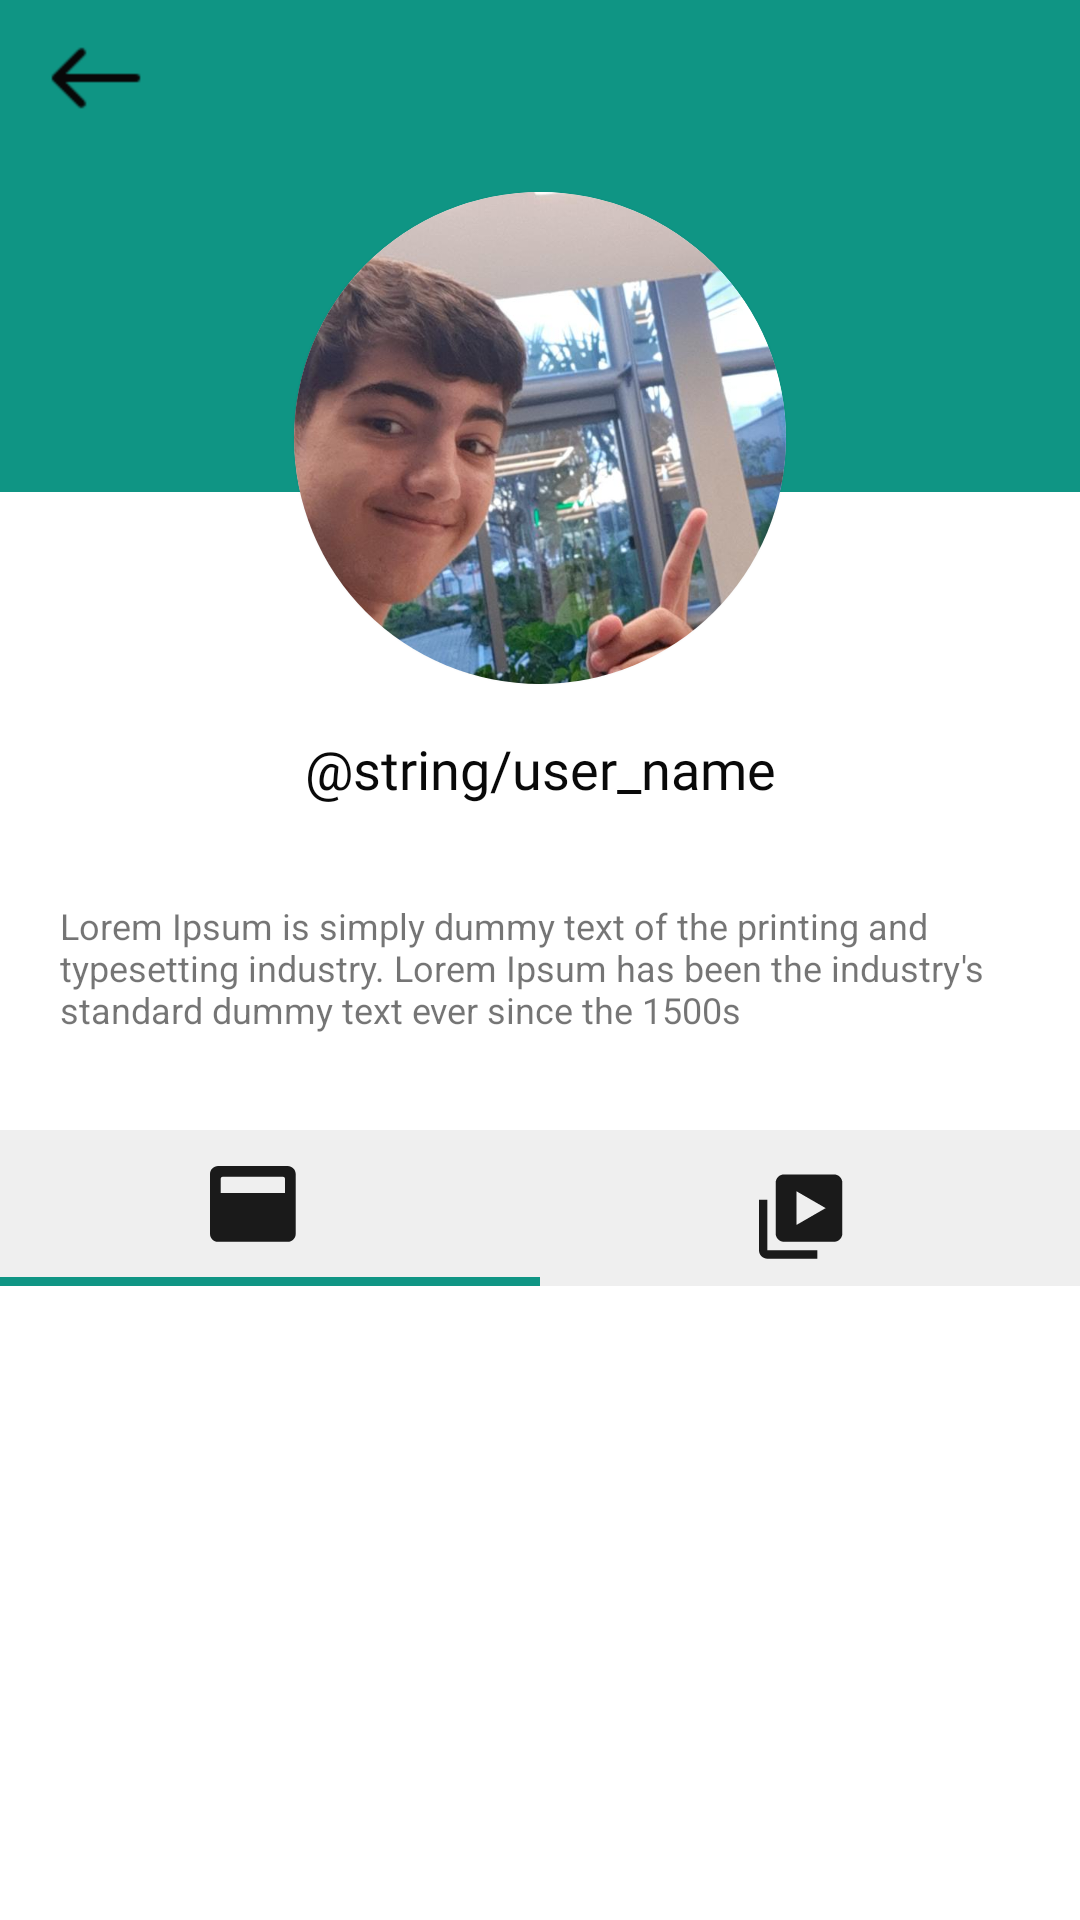

Locate icon controls on the screen. Image size 1080px x 1920px, boxes as (x1, y1, x2, y2).
left arrow: (51, 48, 141, 108)
